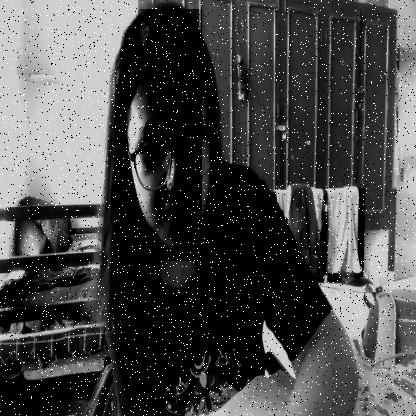Normal: (115, 9, 202, 261)
